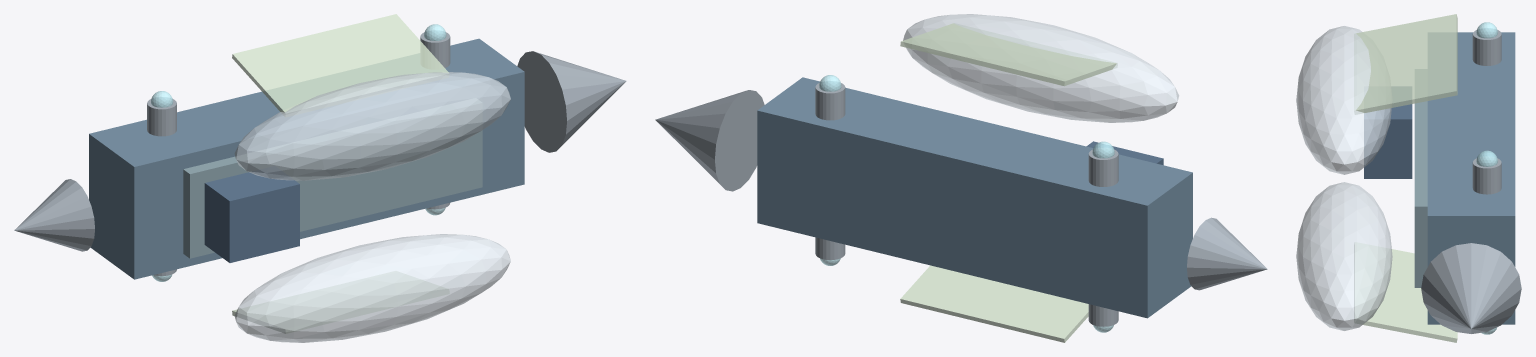
Rendered from SKYSHIP_05_SILVERWING_CORVETTE_silverwing_corvette.glb.
3 renders of one model, left to right at view 1: azimuth 30°, elevation 25°; view 2: azimuth 150°, elevation 25°; view 3: azimuth 270°, elevation 25°, orthographic. The views are drawn at different scales.
Visible parts, largest first — view 1: aetherwood_hull, upper_deck, left_aether_cell, right_aether_cell, right_lift_sail, command_cabin, forward_ram, left_lift_sail, stern_finial, right_thruster_-1.11, right_thruster_1.11; view 2: aetherwood_hull, right_aether_cell, left_lift_sail, forward_ram, right_lift_sail, stern_finial, right_thruster_1.11, right_thruster_-1.11, left_thruster_-1.11, left_thruster_1.11, command_cabin; view 3: aetherwood_hull, left_aether_cell, right_aether_cell, right_lift_sail, forward_ram, left_lift_sail, command_cabin, upper_deck, right_thruster_1.11, right_thruster_-1.11, right_thruster_glow_-1.11, right_thruster_glow_1.11.
Boxes of the visible parts, x1=… form: aetherwood_hull: x1=89, y1=38, x2=524, y2=279; upper_deck: x1=183, y1=98, x2=482, y2=258; left_aether_cell: x1=234, y1=234, x2=510, y2=342; right_aether_cell: x1=234, y1=72, x2=510, y2=180; right_lift_sail: x1=232, y1=14, x2=449, y2=116; command_cabin: x1=204, y1=166, x2=299, y2=262; forward_ram: x1=517, y1=51, x2=626, y2=152; left_lift_sail: x1=232, y1=271, x2=449, y2=333; stern_finial: x1=14, y1=179, x2=94, y2=251; right_thruster_-1.11: x1=147, y1=97, x2=176, y2=136; right_thruster_1.11: x1=420, y1=30, x2=450, y2=68; aetherwood_hull: x1=757, y1=77, x2=1192, y2=318; right_aether_cell: x1=903, y1=14, x2=1179, y2=122; left_lift_sail: x1=900, y1=265, x2=1088, y2=342; forward_ram: x1=655, y1=90, x2=764, y2=191; right_lift_sail: x1=900, y1=23, x2=1117, y2=86; stern_finial: x1=1187, y1=217, x2=1267, y2=290; right_thruster_1.11: x1=815, y1=81, x2=845, y2=120; right_thruster_-1.11: x1=1088, y1=148, x2=1118, y2=186; left_thruster_-1.11: x1=1088, y1=304, x2=1118, y2=326; left_thruster_1.11: x1=815, y1=237, x2=845, y2=259; command_cabin: x1=1086, y1=141, x2=1163, y2=165; aetherwood_hull: x1=1427, y1=32, x2=1515, y2=324; left_aether_cell: x1=1296, y1=182, x2=1392, y2=330; right_aether_cell: x1=1296, y1=26, x2=1391, y2=174; right_lift_sail: x1=1354, y1=14, x2=1457, y2=114; forward_ram: x1=1421, y1=243, x2=1521, y2=333; left_lift_sail: x1=1354, y1=242, x2=1457, y2=342; command_cabin: x1=1364, y1=87, x2=1412, y2=178; upper_deck: x1=1414, y1=69, x2=1427, y2=287; right_thruster_1.11: x1=1472, y1=157, x2=1501, y2=194; right_thruster_-1.11: x1=1472, y1=28, x2=1501, y2=65; right_thruster_glow_-1.11: x1=1476, y1=22, x2=1497, y2=38; right_thruster_glow_1.11: x1=1476, y1=150, x2=1497, y2=166.
Size of the model in its own units: 4.98 by 2.03 by 1.65.
